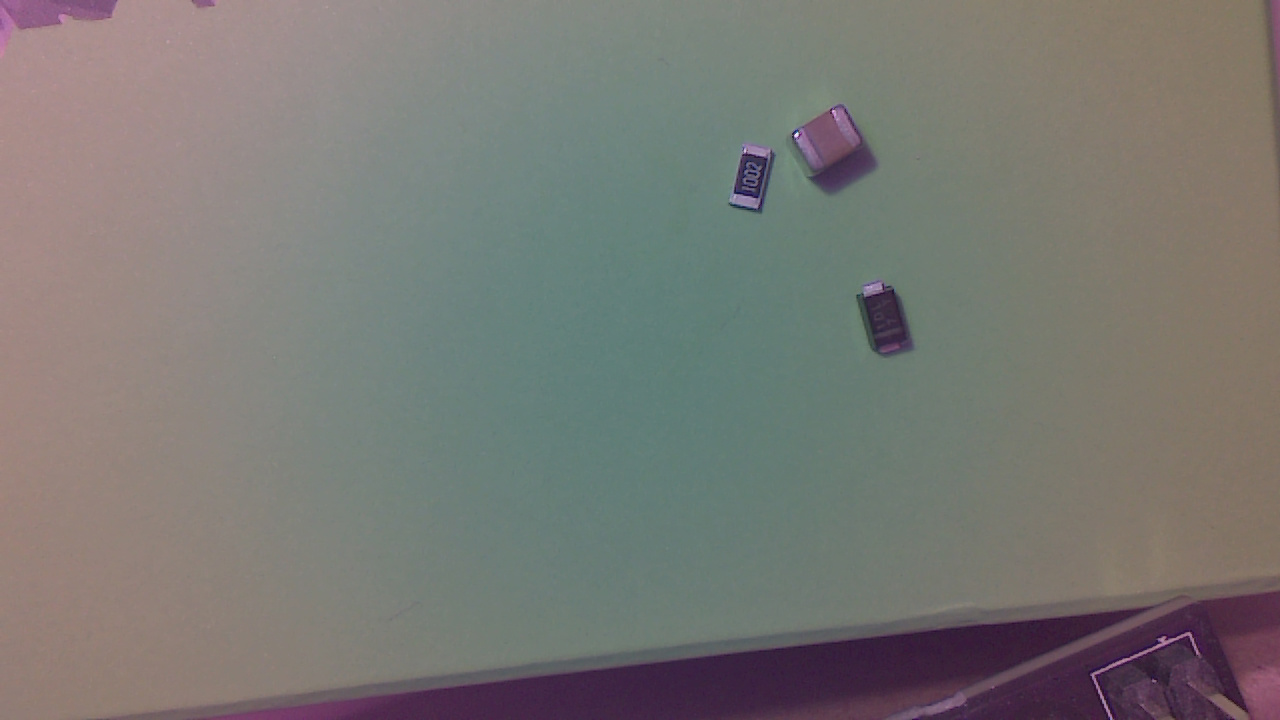Condensator: (790, 111, 870, 178)
Diode: (860, 285, 914, 363)
Resistor: (736, 151, 783, 215)
